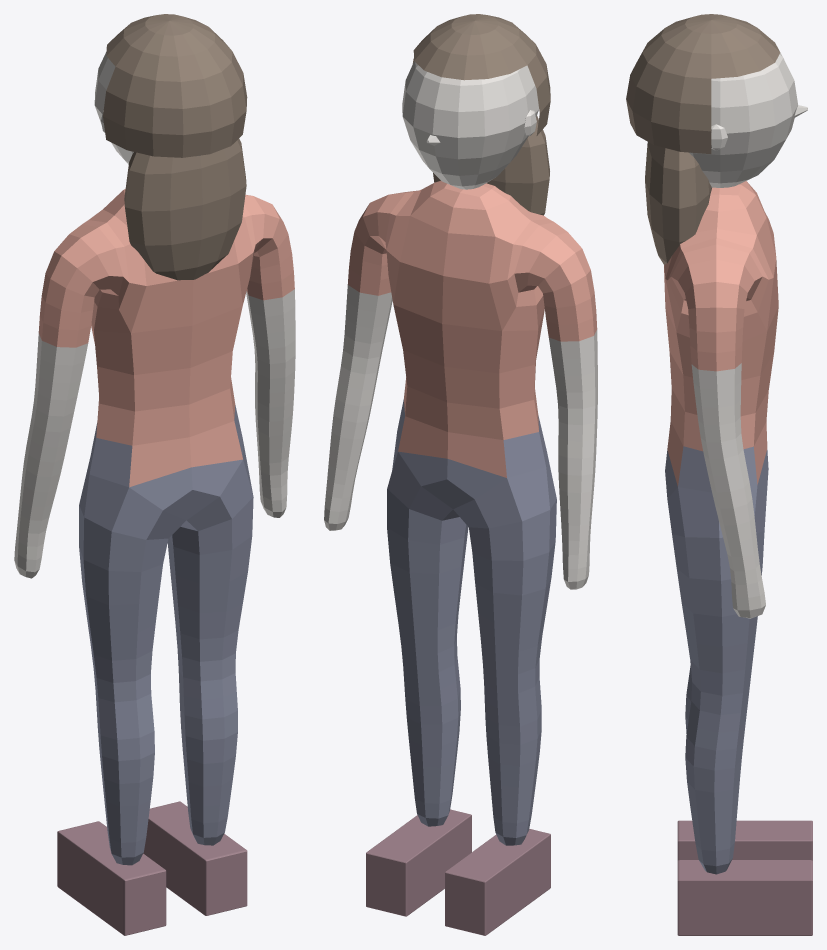
The model's file is girl.glb.
3 views of the same model, side by side, from view 1: azimuth 30°, elevation 25°; view 2: azimuth 150°, elevation 25°; view 3: azimuth 270°, elevation 25° (orthographic). The views are drawn at different scales.
Parts seen in each view (by area): view 1: girl; view 2: girl; view 3: girl.
Part boxes in pixels (x1,y1,x2,y2): girl: [14, 14, 295, 935]; girl: [324, 14, 597, 935]; girl: [626, 14, 812, 935].
Bounding box in the file's own units: 0.3999 × 1.27 × 0.2437.
